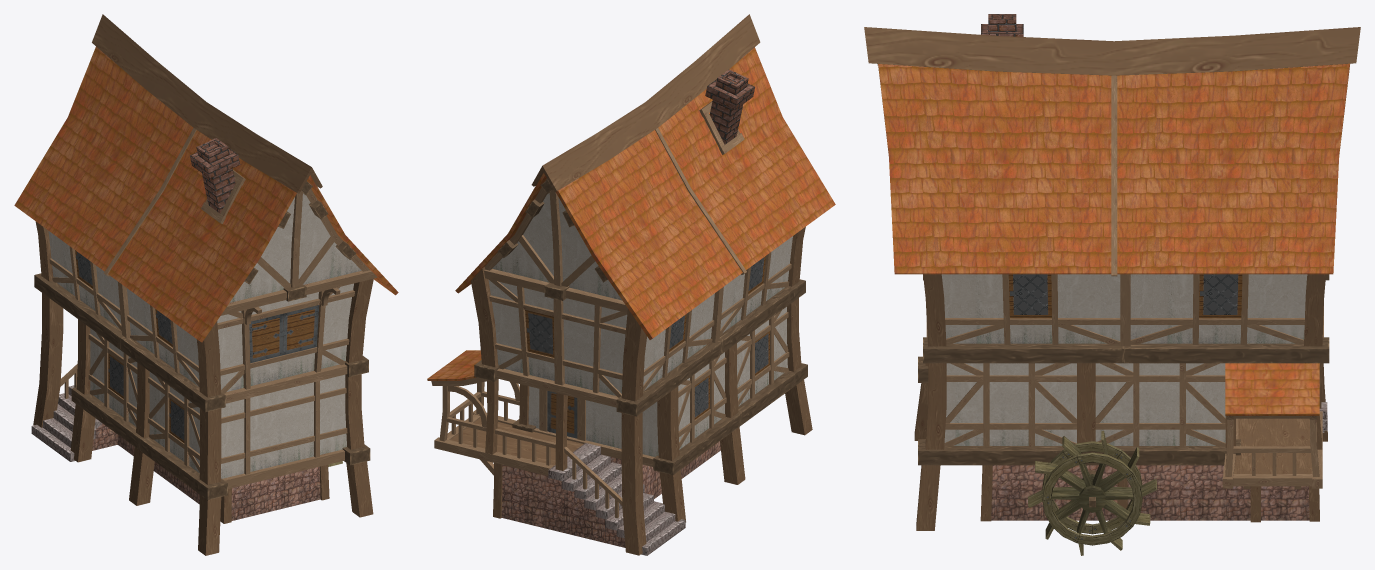
File: sugarmill.glb
3 renders of one model, left to right at view 1: azimuth 30°, elevation 25°; view 2: azimuth 150°, elevation 25°; view 3: azimuth 270°, elevation 25°, orthographic. The views are drawn at different scales.
Parts seen in each view (by area): view 1: mill_01; view 2: mill_01; view 3: mill_01.
Part boxes in pixels (x1,y1,x2,y2): mill_01: [14, 14, 398, 555]; mill_01: [427, 14, 835, 555]; mill_01: [864, 14, 1360, 555].
Size of the model in its own units: 7.55 by 12.04 by 11.61.
Materials: 1 (1 with a texture image).
